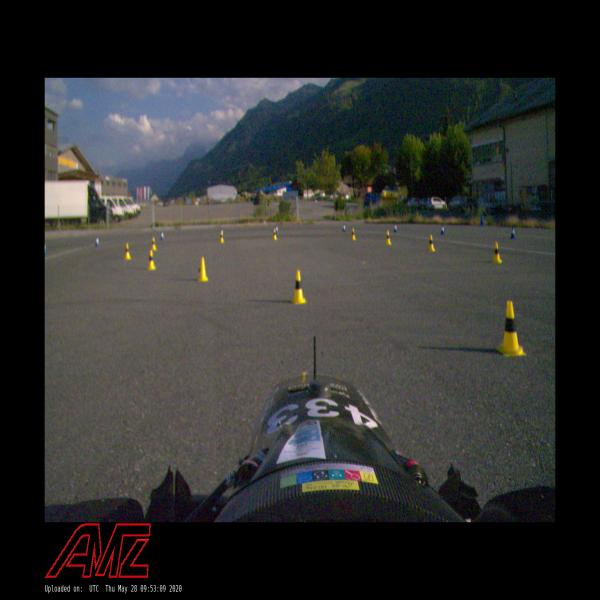blue_cone: (510, 226, 516, 240), (95, 236, 100, 247), (440, 224, 445, 235), (160, 230, 164, 241), (343, 224, 346, 232), (394, 224, 397, 232), (222, 228, 224, 236), (276, 226, 278, 233)
yellow_cone: (494, 301, 526, 358), (290, 270, 307, 304), (197, 257, 208, 282), (493, 242, 502, 263), (147, 250, 156, 270), (428, 235, 435, 252), (124, 244, 131, 260), (385, 230, 392, 246), (152, 237, 157, 251), (351, 228, 356, 240), (220, 232, 224, 243), (273, 229, 277, 240)
